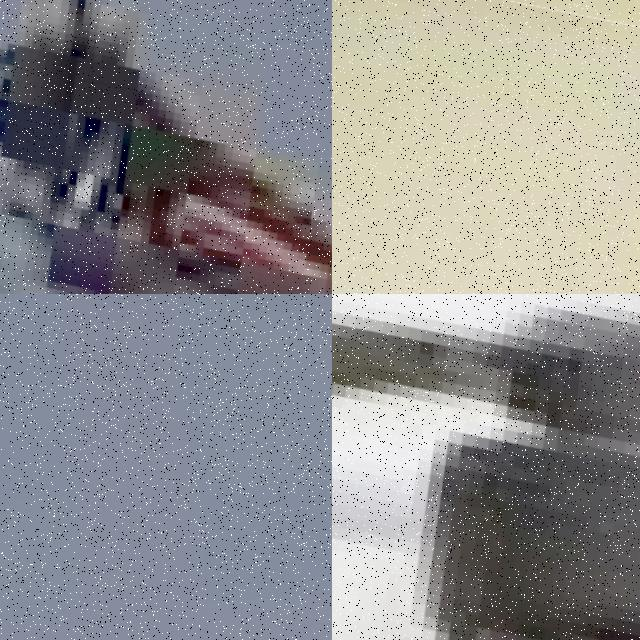drone: (332, 294, 640, 640), (0, 0, 332, 294), (332, 0, 640, 294)
